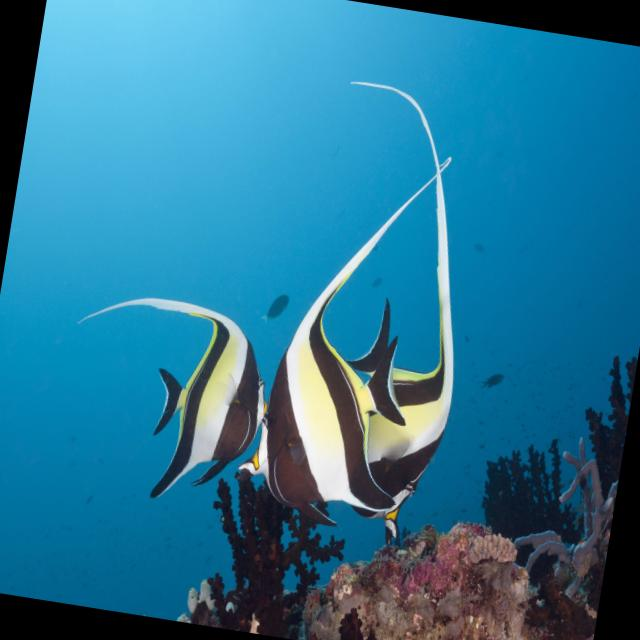MorishIdol: (280, 80, 498, 550), (228, 131, 452, 536), (51, 284, 282, 516)
